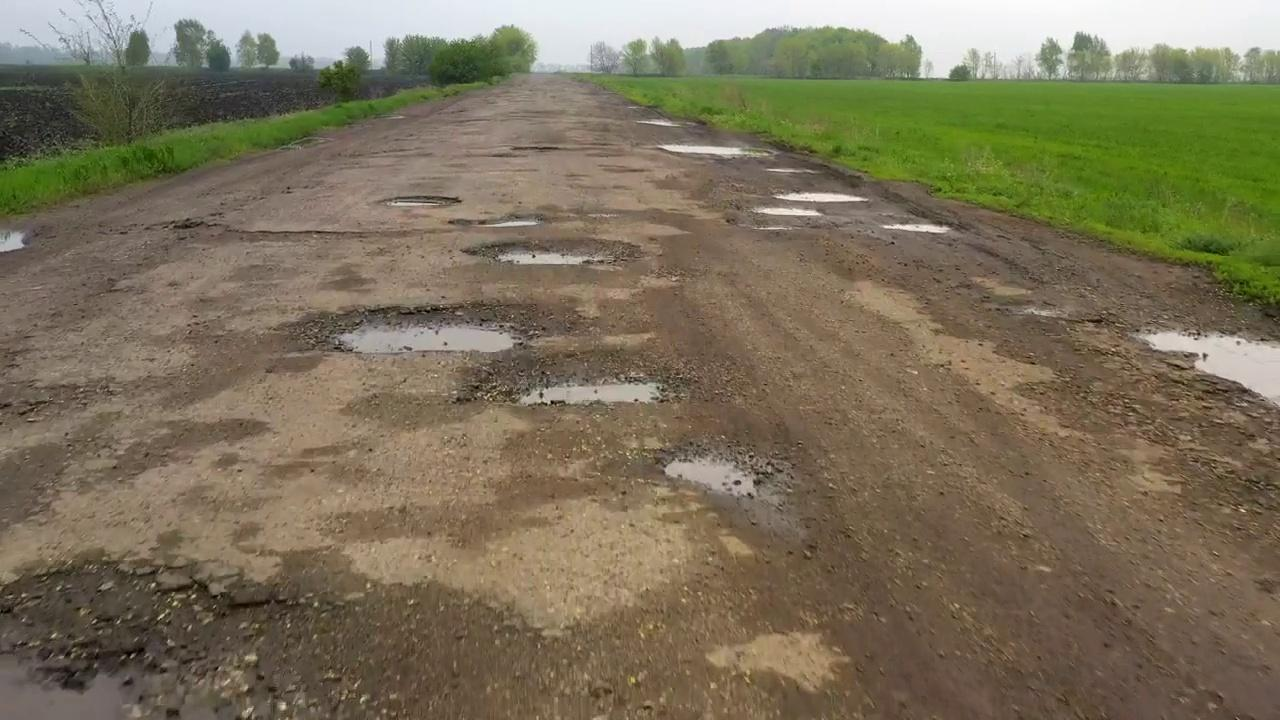bache: (0, 565, 336, 719), (652, 439, 797, 533), (290, 302, 549, 354), (457, 348, 687, 405), (1140, 331, 1279, 405), (464, 237, 640, 264), (448, 213, 544, 227), (775, 192, 867, 202), (384, 195, 460, 207), (881, 223, 949, 233), (752, 207, 821, 214), (753, 226, 793, 228)
